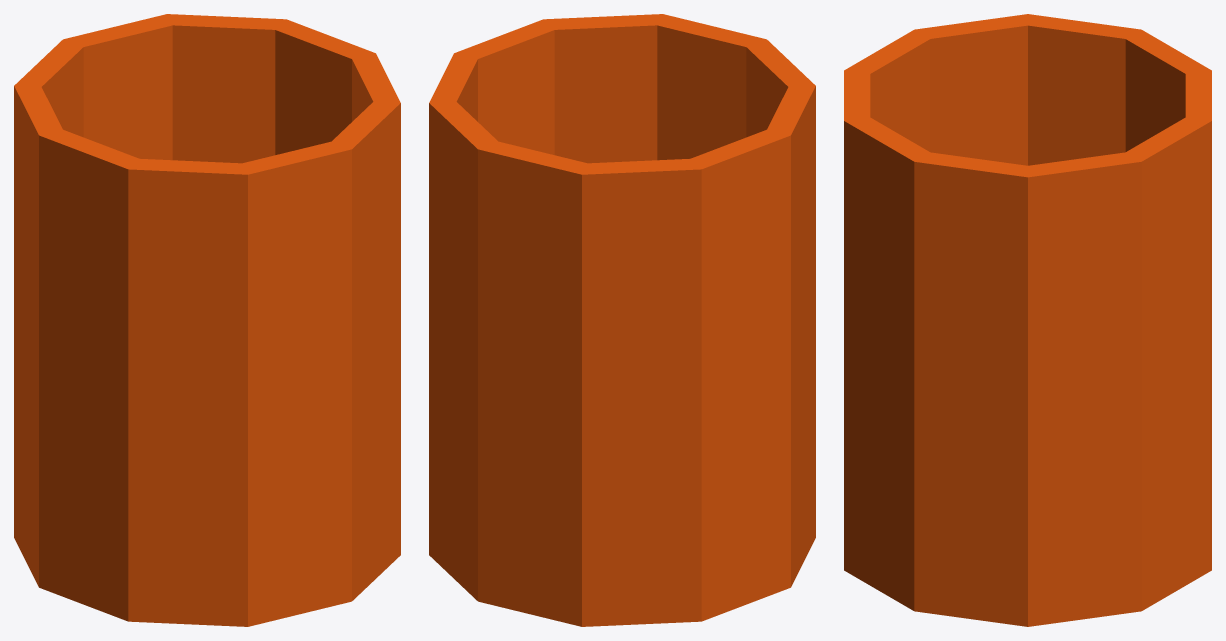
Rendered from Mug.fbx.
3 views of the same model, side by side, from view 1: azimuth 30°, elevation 25°; view 2: azimuth 150°, elevation 25°; view 3: azimuth 270°, elevation 25° (orthographic).
Visible parts, largest first — view 1: Cylinder.011; view 2: Cylinder.011; view 3: Cylinder.011.
Part boxes in pixels (x1=…): Cylinder.011: x1=14, y1=14, x2=400, y2=626; Cylinder.011: x1=429, y1=14, x2=815, y2=626; Cylinder.011: x1=844, y1=14, x2=1211, y2=626.
Size of the model in its own units: 0.0902 by 0.1159 by 0.0858.
